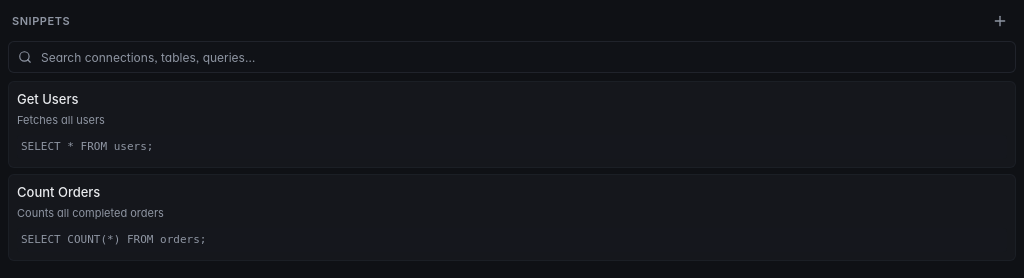
Test: SnippetsPanel Component › filters snippets based on search input
Expected: the text "Get Users" is shown, left=17, top=90, right=78, bottom=110
// Search for "orders"
Type "orders" into the field with placeholder "Search connections, tables, queries…" at (512, 57), box left=8, top=41, right=1016, bottom=73
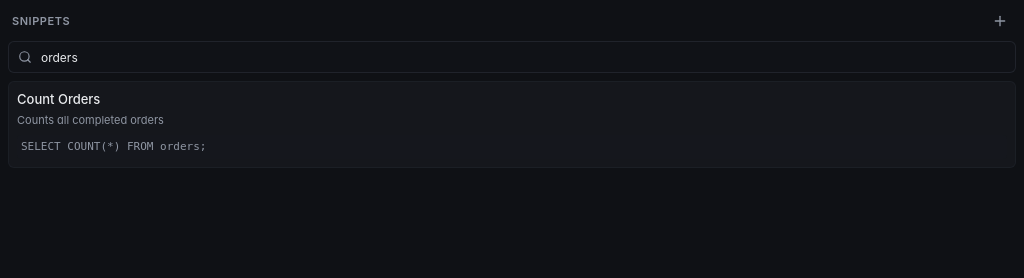
Expected: the text "Count Orders" is shown, left=17, top=90, right=100, bottom=110
Now the text "Get Users" is gone
